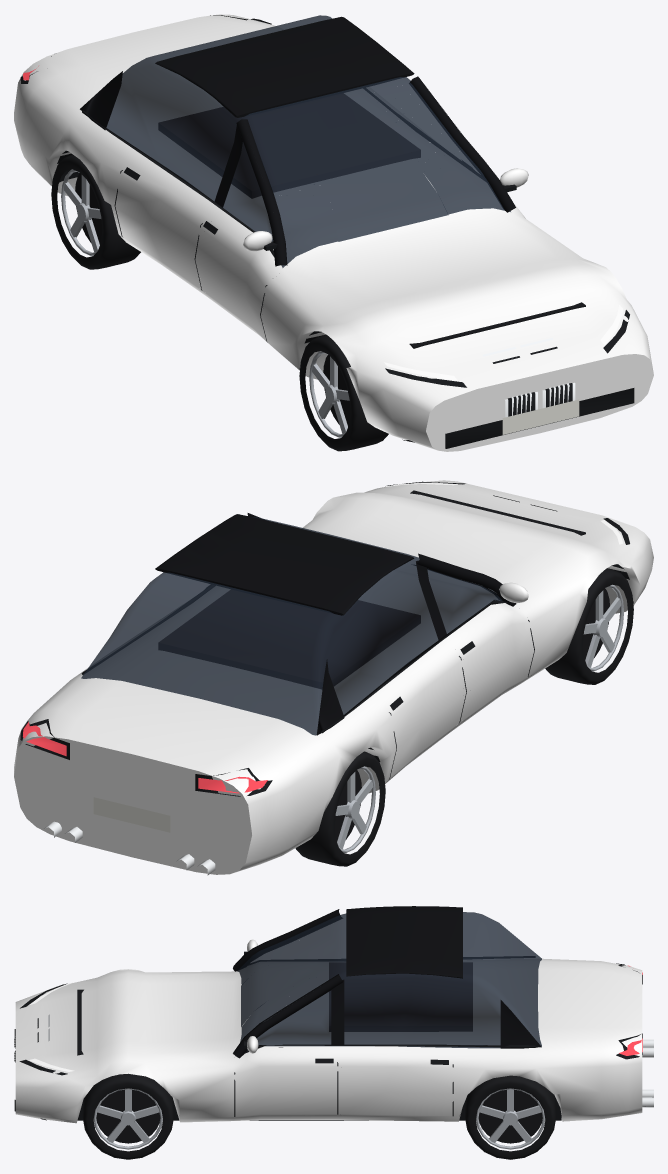
The model's file is bmw_m3_g80.lod.glb.
The picture shows the model from 3 angles, top to bottom: view 1: azimuth 30°, elevation 25°; view 2: azimuth 150°, elevation 25°; view 3: azimuth 270°, elevation 25°; orthographic projection. The views are drawn at different scales.
Visible parts, largest first — view 1: body_paint, body_glass, body_trim, body_roof, door_glass (×2), door_paint, tire (×2), body_pillar, rim (×2), door_pillar, body_chrome; view 2: body_paint, body_glass, body_trim, body_roof, door_paint, tire (×2), rim (×2), door_glass, body_pillar, door_pillar, taillights, body_chrome; view 3: body_paint, body_glass, body_trim, body_roof, door_paint, tire (×2), door_glass (×2), rim_back (×2), body_pillar, rim (×2), door_pillar, body_chrome.
Part boxes in pixels (left/top/right/bottom): body_paint: left=14, top=14, right=653, bottom=451; body_glass: left=106, top=15, right=468, bottom=241; body_trim: left=20, top=15, right=634, bottom=448; body_roof: left=155, top=16, right=414, bottom=117; door_glass (×2): left=223, top=84, right=510, bottom=267; door_paint: left=192, top=212, right=283, bottom=348; tire (×2): left=51, top=154, right=388, bottom=451; body_pillar: left=80, top=71, right=515, bottom=266; rim (×2): left=61, top=169, right=349, bottom=437; door_pillar: left=221, top=125, right=280, bottom=265; body_chrome: left=482, top=337, right=575, bottom=417; body_paint: left=14, top=480, right=653, bottom=874; body_glass: left=81, top=517, right=499, bottom=735; body_trim: left=20, top=481, right=633, bottom=832; body_roof: left=155, top=514, right=414, bottom=615; door_paint: left=450, top=603, right=535, bottom=732; tire (×2): left=295, top=568, right=633, bottom=866; rim (×2): left=335, top=584, right=623, bottom=853; door_glass: left=408, top=554, right=502, bottom=633; body_pillar: left=247, top=513, right=516, bottom=735; door_pillar: left=422, top=555, right=515, bottom=635; taillights: left=23, top=722, right=267, bottom=793; body_chrome: left=44, top=821, right=215, bottom=875; body_paint: left=15, top=958, right=642, bottom=1123; body_glass: left=241, top=912, right=541, bottom=1048; body_trim: left=14, top=956, right=642, bottom=1120; body_roof: left=346, top=906, right=462, bottom=978; door_paint: left=233, top=1047, right=342, bottom=1120; tire (×2): left=82, top=1073, right=556, bottom=1159; door_glass (×2): left=235, top=916, right=337, bottom=1056; rim_back (×2): left=96, top=1089, right=542, bottom=1143; body_pillar: left=233, top=909, right=541, bottom=1056; rim (×2): left=93, top=1088, right=545, bottom=1149; door_pillar: left=236, top=978, right=337, bottom=1058; body_chrome: left=14, top=1014, right=653, bottom=1107.
Bounding box in the file's own units: 1.96 × 1.44 × 4.89.
